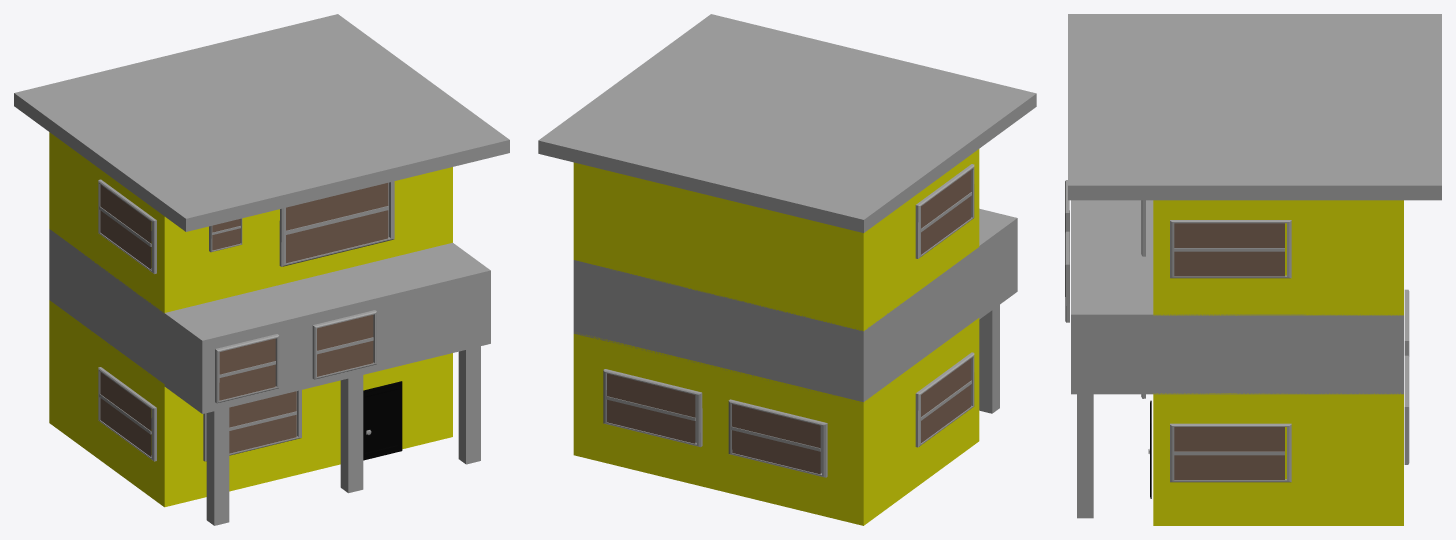
Rendered from Building3.fbx.
The picture shows the model from 3 angles, left to right: view 1: azimuth 30°, elevation 25°; view 2: azimuth 150°, elevation 25°; view 3: azimuth 270°, elevation 25°; orthographic projection. The views are drawn at different scales.
Visible parts, largest first — view 1: pCube357, pCube352, pCube351, pCube353, polySurface756, polySurface753, polySurface755, polySurface754, polySurface758, polySurface760, pSphere41, pCube354 (+3 smaller); view 2: pCube357, pCube353, pCube351, pCube352, polySurface762, polySurface763, polySurface758, polySurface760, pCube356; view 3: pCube357, pCube352, pCube351, pCube353, polySurface759, polySurface761, pCube355, polySurface763, polySurface755.
Part boxes in pixels (left/top/right/bottom): pCube357: left=14, top=14, right=509, bottom=231; pCube352: left=49, top=229, right=490, bottom=413; pCube351: left=49, top=300, right=452, bottom=507; pCube353: left=49, top=132, right=452, bottom=313; polySurface756: left=279, top=181, right=394, bottom=266; polySurface753: left=203, top=390, right=301, bottom=461; polySurface755: left=312, top=310, right=376, bottom=379; polySurface754: left=215, top=334, right=279, bottom=403; polySurface758: left=98, top=367, right=156, bottom=461; polySurface760: left=98, top=179, right=156, bottom=273; pSphere41: left=363, top=381, right=402, bottom=460; pCube354: left=340, top=375, right=363, bottom=493; pCube357: left=538, top=14, right=1036, bottom=232; pCube353: left=573, top=149, right=979, bottom=331; pCube351: left=573, top=318, right=979, bottom=525; pCube352: left=573, top=208, right=1017, bottom=402; polySurface762: left=728, top=399, right=827, bottom=477; polySurface763: left=603, top=369, right=702, bottom=447; polySurface758: left=915, top=352, right=974, bottom=447; polySurface760: left=915, top=164, right=974, bottom=258; pCube356: left=979, top=305, right=999, bottom=413; pCube357: left=1068, top=14, right=1441, bottom=200; pCube352: left=1071, top=200, right=1403, bottom=394; pCube351: left=1153, top=393, right=1403, bottom=525; pCube353: left=1153, top=200, right=1403, bottom=315; polySurface759: left=1170, top=423, right=1291, bottom=482; polySurface761: left=1170, top=220, right=1291, bottom=278; pCube355: left=1077, top=394, right=1093, bottom=518; polySurface763: left=1404, top=355, right=1409, bottom=464; polySurface755: left=1065, top=231, right=1069, bottom=322.
Size of the model in its own units: 339 by 322 by 315.
